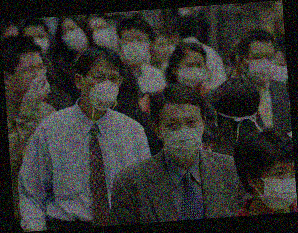with_mask: (159, 112, 206, 162), (255, 164, 296, 210), (81, 70, 122, 110), (243, 49, 277, 84), (120, 32, 151, 67), (175, 59, 207, 89), (60, 22, 88, 53), (24, 30, 52, 56), (91, 22, 111, 47), (272, 59, 287, 84)
without_mask: (9, 60, 48, 98), (150, 40, 171, 63)
